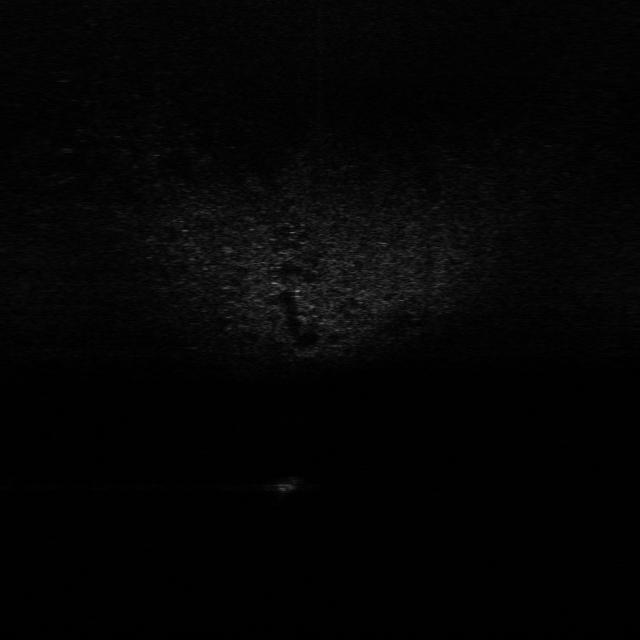cylinder: (274, 473, 307, 497)
